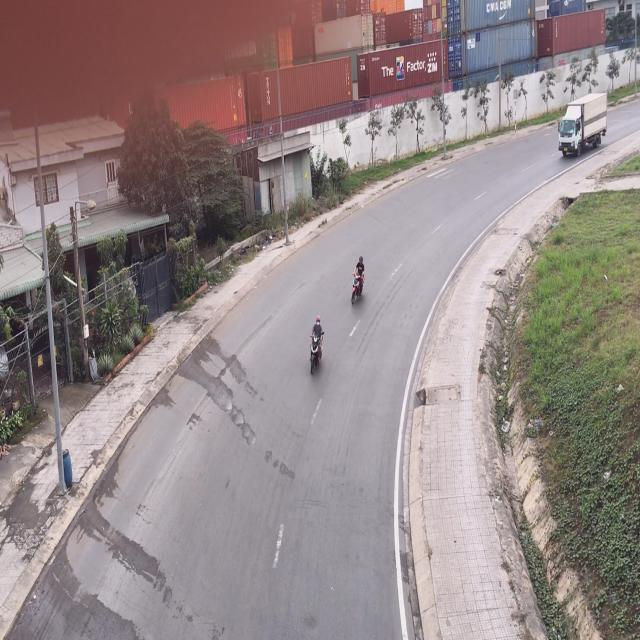motorbike: (308, 317, 326, 378), (349, 255, 366, 308)
truck: (556, 95, 606, 161)
